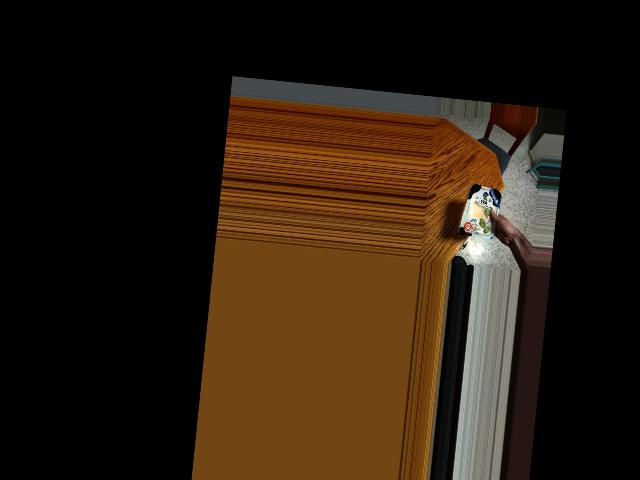cheese: (458, 183, 508, 240)
